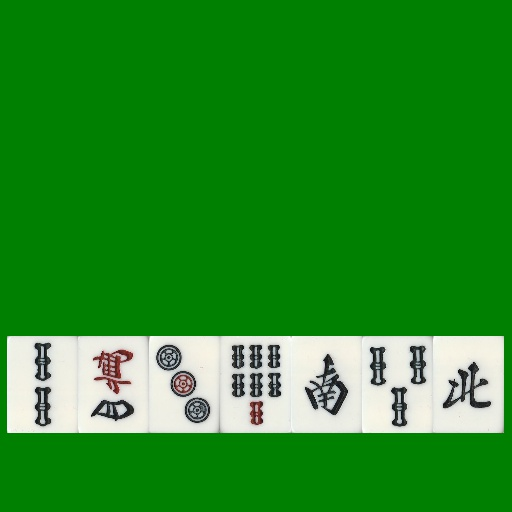2s: (7, 336, 78, 433)
3p: (149, 336, 220, 433)
3s: (362, 336, 433, 433)
4m: (78, 336, 149, 433)
7s: (220, 336, 291, 433)
north: (433, 336, 504, 433)
south: (291, 336, 362, 433)
